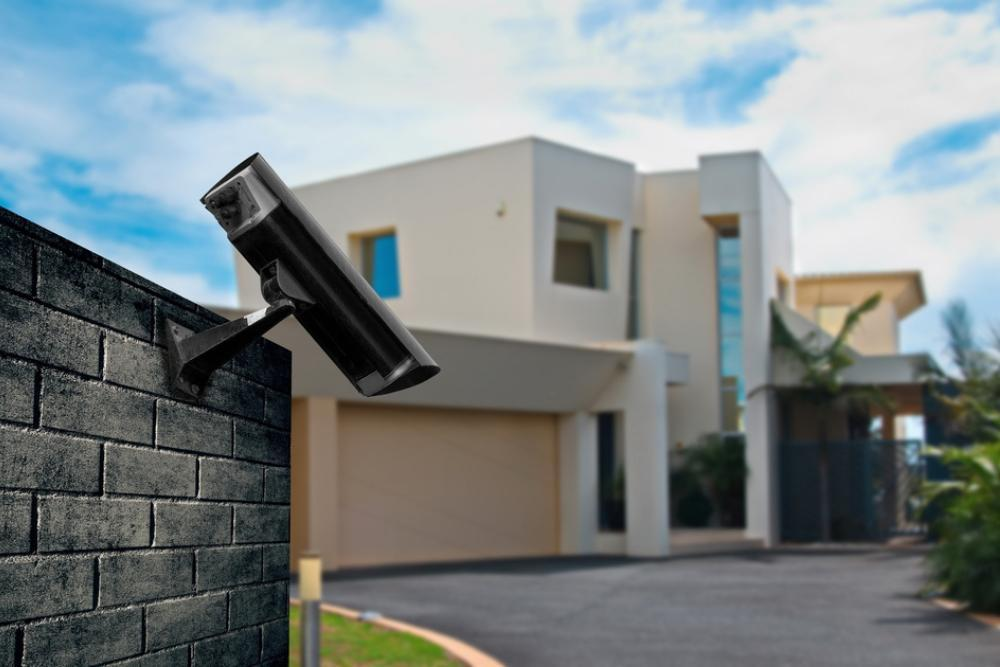CCTV: (164, 153, 440, 401)
